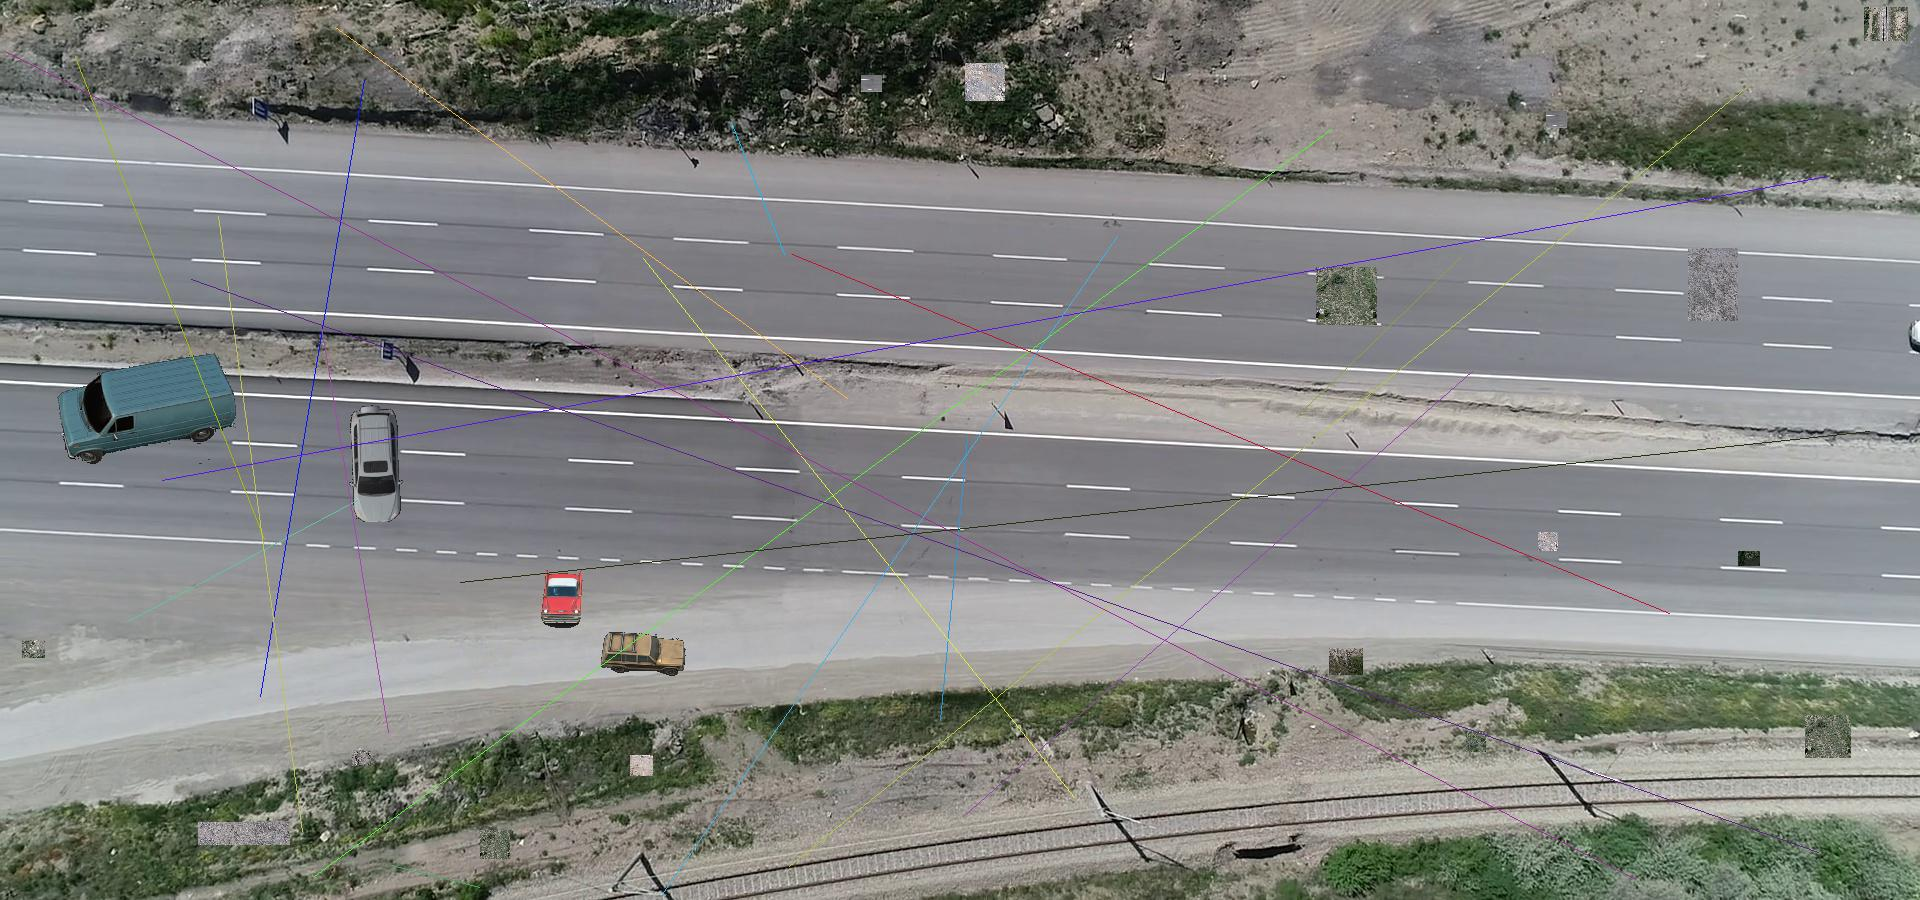arac: (55, 351, 238, 467), (347, 404, 403, 522), (599, 629, 689, 677), (541, 571, 585, 629)
